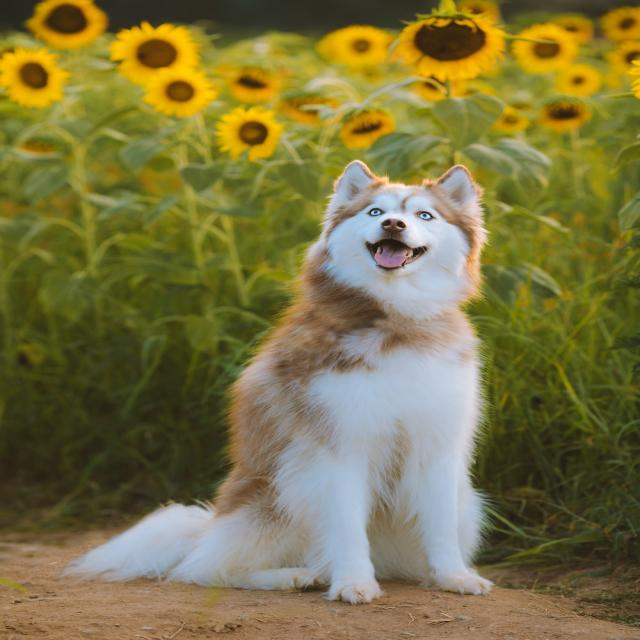husky: (279, 135, 521, 338)
